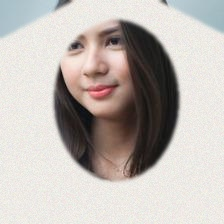Mukena: (4, 28, 224, 224)
